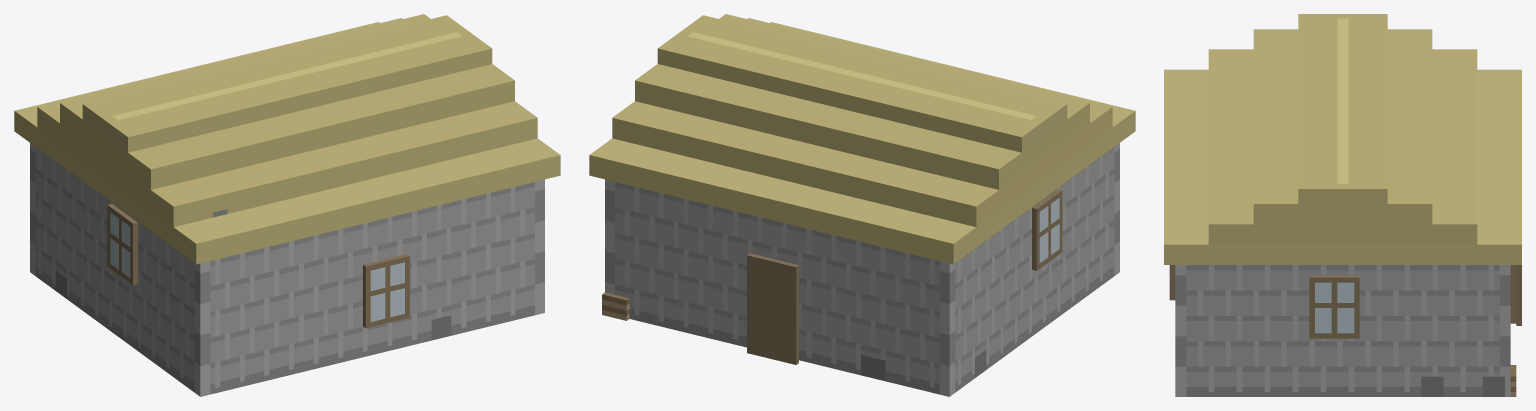
Rendered from campamento_hostil_04.glb.
The picture shows the model from 3 angles, left to right: view 1: azimuth 30°, elevation 25°; view 2: azimuth 150°, elevation 25°; view 3: azimuth 270°, elevation 25°; orthographic projection.
Parts seen in each view (by area): view 1: campamento_hostil_04; view 2: campamento_hostil_04; view 3: campamento_hostil_04.
Part boxes in pixels (x1,y1,x2,y2): campamento_hostil_04: (14,14,560,396); campamento_hostil_04: (589,14,1135,396); campamento_hostil_04: (1164,14,1521,396).
Bounding box in the file's own units: 7.4 × 4.2 × 6.4.
